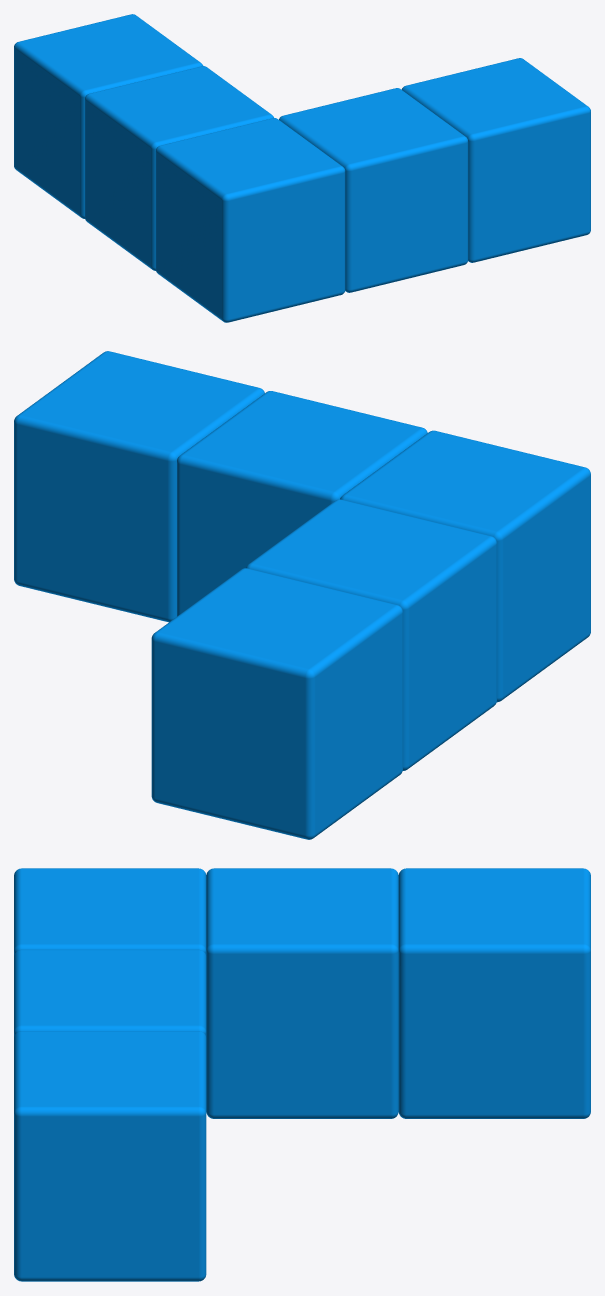
The model's file is Arrow.obj.
The picture shows the model from 3 angles, top to bottom: view 1: azimuth 30°, elevation 25°; view 2: azimuth 150°, elevation 25°; view 3: azimuth 270°, elevation 25°; orthographic projection. The views are drawn at different scales.
Parts seen in each view (by area): view 1: 000_Box, 001_Box_1, 002_Box_2, 004_Box_4, 003_Box_3; view 2: 004_Box_4, 002_Box_2, 000_Box, 003_Box_3, 001_Box_1; view 3: 002_Box_2, 003_Box_3, 004_Box_4, 000_Box, 001_Box_1.
Boxes of the visible parts, x1=… form: 000_Box: x1=155, y1=118, x2=345, y2=322; 001_Box_1: x1=279, y1=88, x2=468, y2=292; 002_Box_2: x1=401, y1=58, x2=590, y2=262; 004_Box_4: x1=14, y1=14, x2=203, y2=218; 003_Box_3: x1=85, y1=66, x2=273, y2=270; 004_Box_4: x1=151, y1=568, x2=402, y2=839; 002_Box_2: x1=14, y1=351, x2=264, y2=622; 000_Box: x1=340, y1=430, x2=590, y2=702; 003_Box_3: x1=246, y1=499, x2=496, y2=770; 001_Box_1: x1=177, y1=391, x2=427, y2=616; 002_Box_2: x1=14, y1=1031, x2=206, y2=1281; 003_Box_3: x1=206, y1=868, x2=398, y2=1118; 004_Box_4: x1=398, y1=868, x2=590, y2=1118; 000_Box: x1=14, y1=868, x2=206, y2=955; 001_Box_1: x1=14, y1=949, x2=206, y2=1036.
Size of the model in its own units: 300 by 100 by 300.
